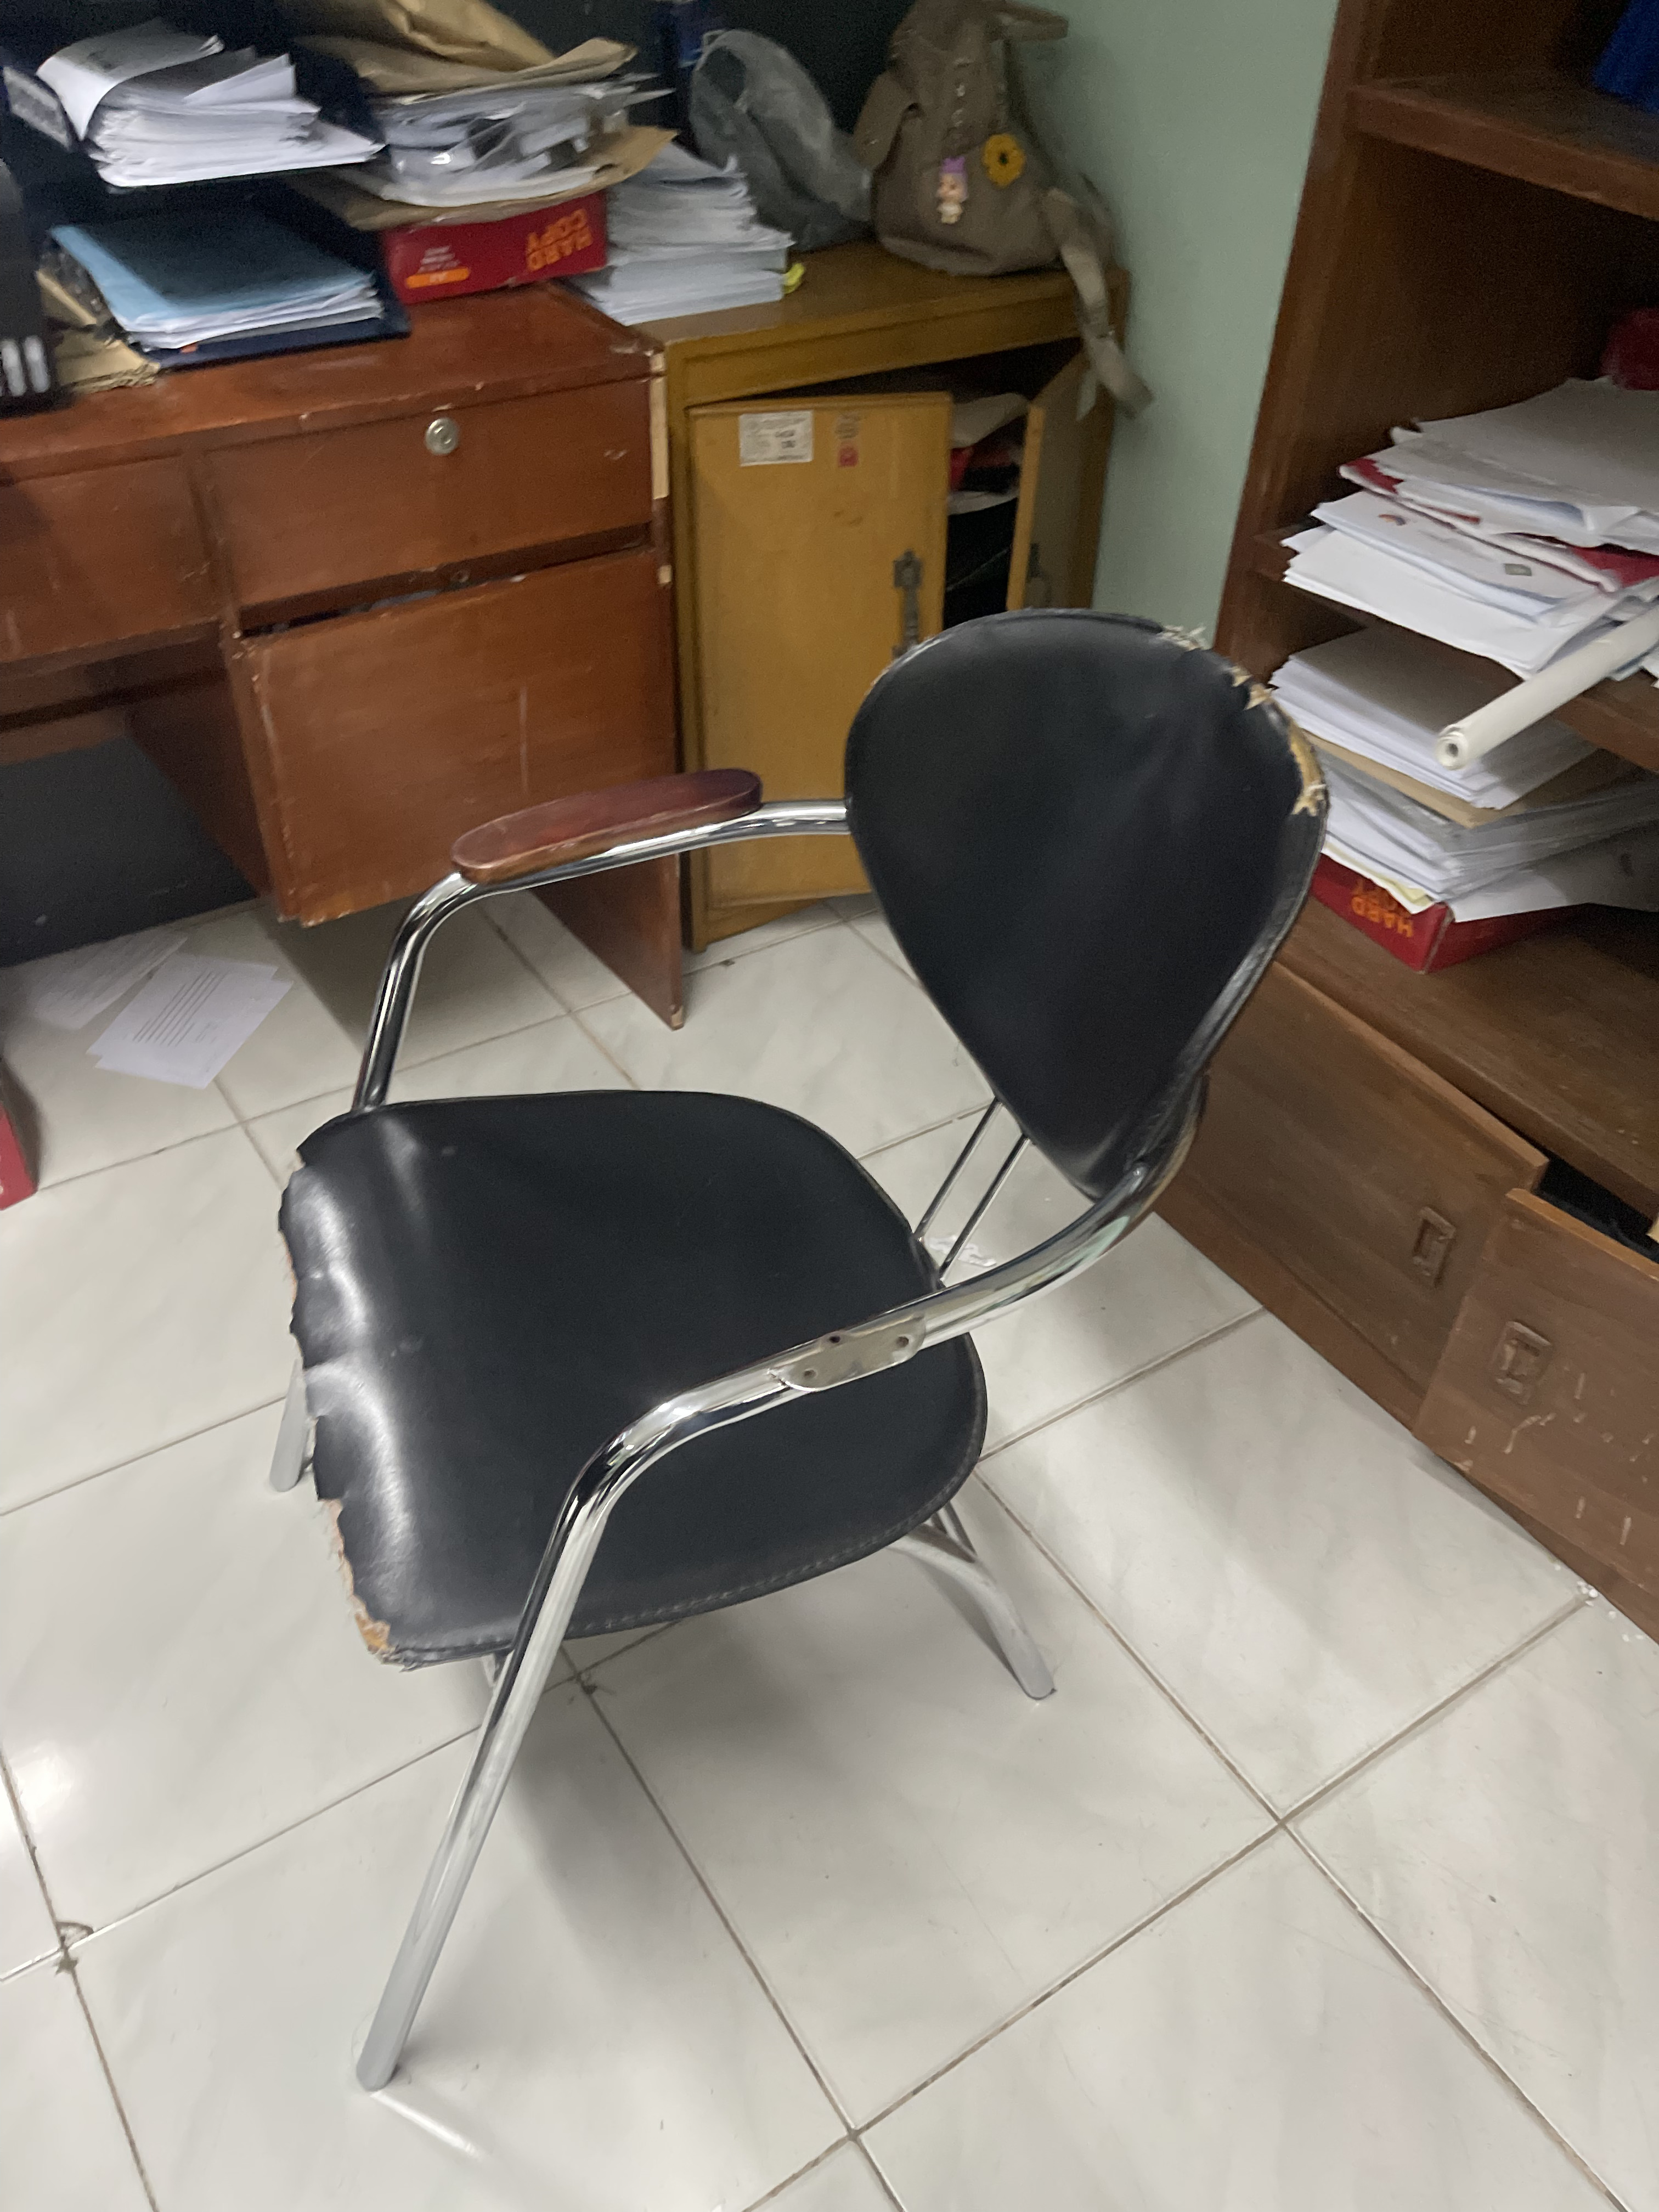chair1: (256, 610, 1328, 2107)
